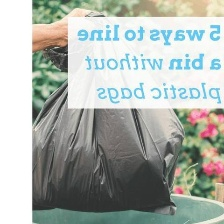plastic_bag: (4, 6, 187, 218)
